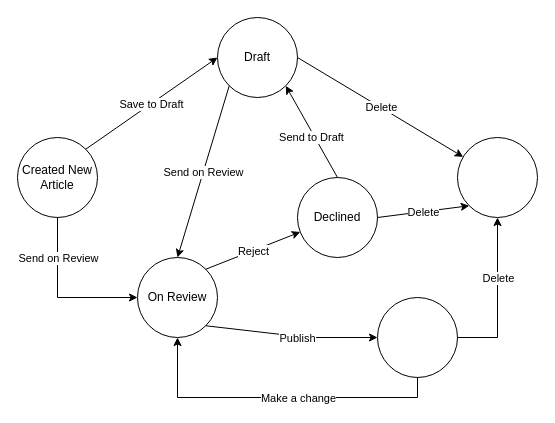
Some shapes in this 555 by 423 pixel diagram are drawn without their labels. The centre of each missing label's shape, as x and y in pixels:
Deleted: the point at 497,177
Published: the point at 417,337
